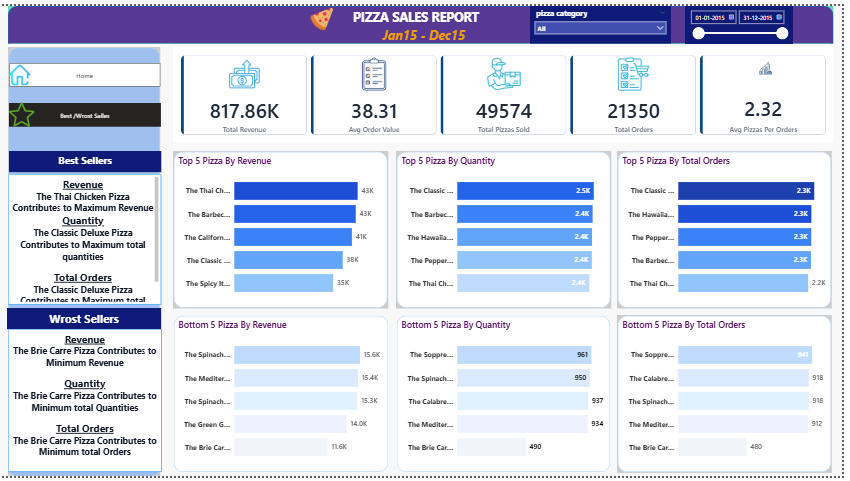

What the dashboard file says about the page in this screenshot:
{"tool":"powerbi","page":{"name":"Best /Wrost Salles","canvas":[1800,1000],"ordinal":1},"visuals":[{"type":"shape","box":[26,0,1756,80],"z":0},{"type":"cardVisual","fields":{"Data":["pizza_sales.Total Revenue","pizza_sales.Avg Order Value","pizza_sales.Total Pizzas Sold","pizza_sales.Total Orders","pizza_sales.Avg Pizzas Per Orders"]},"box":[376,88,1406,204],"z":1000},{"type":"textbox","box":[717.1,0,352.9,55.7],"z":2000},{"type":"textbox","box":[816,38,192,52],"z":3000},{"type":"image","box":[667.1,0,50,55.7],"z":4000},{"type":"shape","box":[26.5,87.8,324.5,916.3],"z":5000},{"type":"textbox","box":[26.9,307.5,323.9,44.8],"z":6000},{"type":"textbox","box":[25.9,356.9,325.9,277.6],"z":7000},{"type":"textbox","box":[24.1,643.1,327.6,44.8],"z":8000},{"type":"textbox","box":[24.5,687.8,326.5,304.1],"z":9000},{"type":"slicer","fields":{"Values":["pizza_sales.pizza_category"]},"box":[1136.2,0,300,80],"z":10000},{"type":"slicer","fields":{"Values":["pizza_sales.order_date"]},"box":[1466.2,0,227.5,80],"z":11000},{"type":"shape","box":[1321.2,307.7,457,335],"z":12000},{"type":"shape","box":[850,307.7,457.7,335],"z":13000},{"type":"shape","box":[376.9,307.7,457.7,335],"z":14000},{"type":"shape","box":[376.2,657.1,459.5,335.7],"z":15000},{"type":"shape","box":[850,657.1,457.1,335.7],"z":16000},{"type":"shape","box":[1321.4,657.1,457.1,335.7],"z":17000},{"type":"barChart","title":"Top 5 Pizza By Revenue","fields":{"Category":["pizza_sales.pizza_name"],"Y":["pizza_sales.Total Revenue"]},"box":[382.8,317.2,443.1,317.2],"z":18000},{"type":"barChart","title":"Bottom 5 Pizza By Revenue","fields":{"Category":["pizza_sales.pizza_name"],"Y":["pizza_sales.Total Revenue"]},"box":[382.8,665.5,443.1,317.2],"z":19000},{"type":"barChart","title":"Top 5 Pizza By Quantity","fields":{"Category":["pizza_sales.pizza_name"],"Y":["pizza_sales.Total Pizzas Sold"]},"box":[856.9,317.2,443.1,317.2],"z":20000},{"type":"barChart","title":"Bottom 5 Pizza By Quantity","fields":{"Category":["pizza_sales.pizza_name"],"Y":["pizza_sales.Total Pizzas Sold"]},"box":[856.9,665.5,443.1,317.2],"z":21000},{"type":"barChart","title":"Top 5 Pizza By Total Orders","fields":{"Category":["pizza_sales.pizza_name"],"Y":["pizza_sales.Total Orders"]},"box":[1327.6,317.2,443.1,317.2],"z":22000},{"type":"barChart","title":"Bottom 5 Pizza By Total Orders","fields":{"Category":["pizza_sales.pizza_name"],"Y":["pizza_sales.Total Orders"]},"box":[1327.6,665.5,443.1,317.2],"z":23000},{"type":"pageNavigator","box":[26.9,206,323.9,50.7],"z":24000},{"type":"pageNavigator","box":[26.9,120.9,322.4,50.7],"z":25000},{"type":"image","box":[27,110,46,72],"z":26000},{"type":"image","box":[27,195,54,70],"z":27000}]}

Visuals, with their boxes in screenshot pixels (x1, y1, x2, y2), scaled from the page's 1800x1000 canvas onto the 850x481 screenshot:
shape: rect(12, 0, 842, 38)
cardVisual - pizza_sales.Total Revenue x pizza_sales.Avg Order Value: rect(178, 42, 842, 140)
textbox: rect(339, 0, 505, 27)
textbox: rect(385, 18, 476, 43)
image: rect(315, 0, 339, 27)
shape: rect(13, 42, 166, 480)
textbox: rect(13, 148, 166, 169)
textbox: rect(12, 172, 166, 305)
textbox: rect(11, 309, 166, 331)
textbox: rect(12, 331, 166, 477)
slicer - pizza_sales.pizza_category: rect(537, 0, 678, 38)
slicer - pizza_sales.order_date: rect(692, 0, 800, 38)
shape: rect(624, 148, 840, 309)
shape: rect(401, 148, 618, 309)
shape: rect(178, 148, 394, 309)
shape: rect(178, 316, 395, 478)
shape: rect(401, 316, 617, 478)
shape: rect(624, 316, 840, 478)
"Top 5 Pizza By Revenue" barChart: rect(181, 153, 390, 305)
"Bottom 5 Pizza By Revenue" barChart: rect(181, 320, 390, 473)
"Top 5 Pizza By Quantity" barChart: rect(405, 153, 614, 305)
"Bottom 5 Pizza By Quantity" barChart: rect(405, 320, 614, 473)
"Top 5 Pizza By Total Orders" barChart: rect(627, 153, 836, 305)
"Bottom 5 Pizza By Total Orders" barChart: rect(627, 320, 836, 473)
pageNavigator: rect(13, 99, 166, 123)
pageNavigator: rect(13, 58, 165, 83)
image: rect(13, 53, 34, 88)
image: rect(13, 94, 38, 127)
